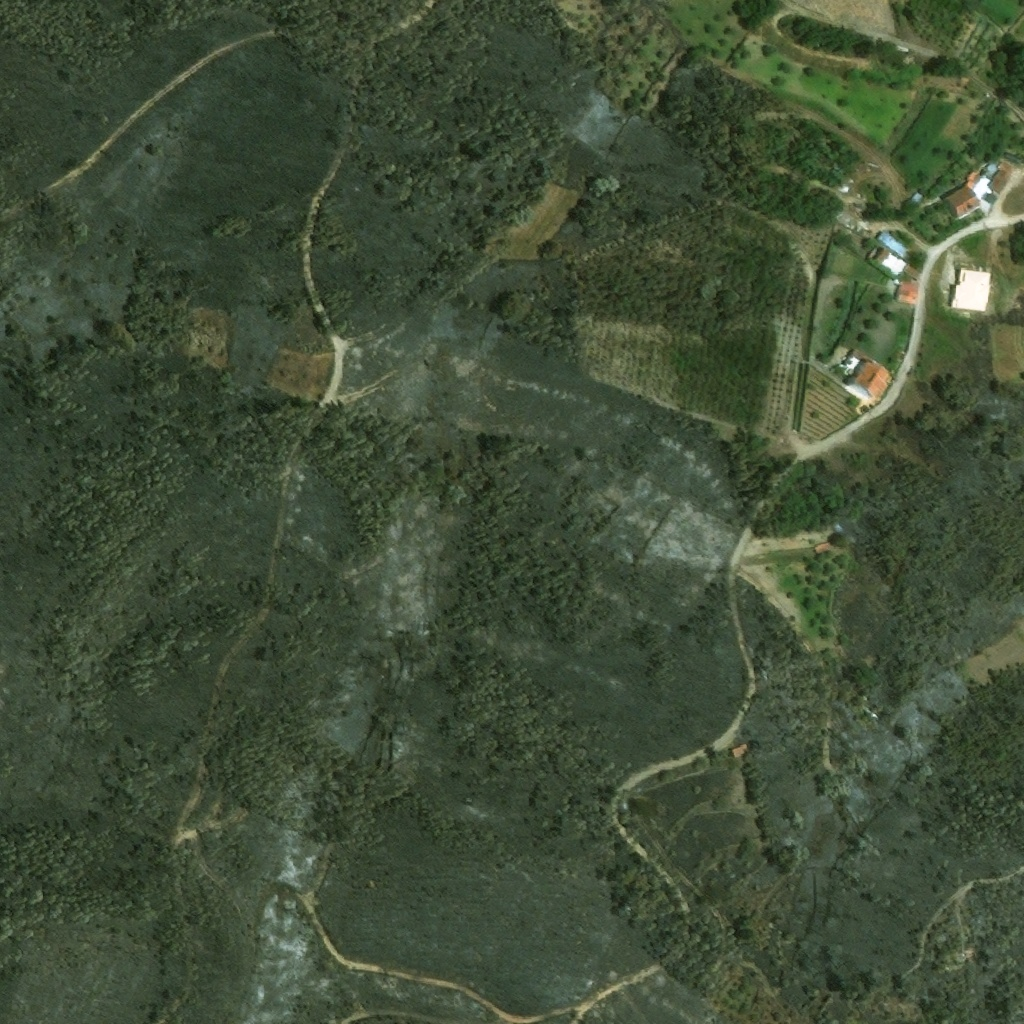0 no-damage: (949, 270, 990, 312), (851, 359, 892, 400), (946, 185, 981, 219), (987, 160, 1017, 198), (966, 163, 997, 196), (880, 251, 906, 276), (897, 281, 918, 302), (872, 246, 890, 264), (815, 541, 835, 556)
4 un-classified: (965, 949, 977, 960)
